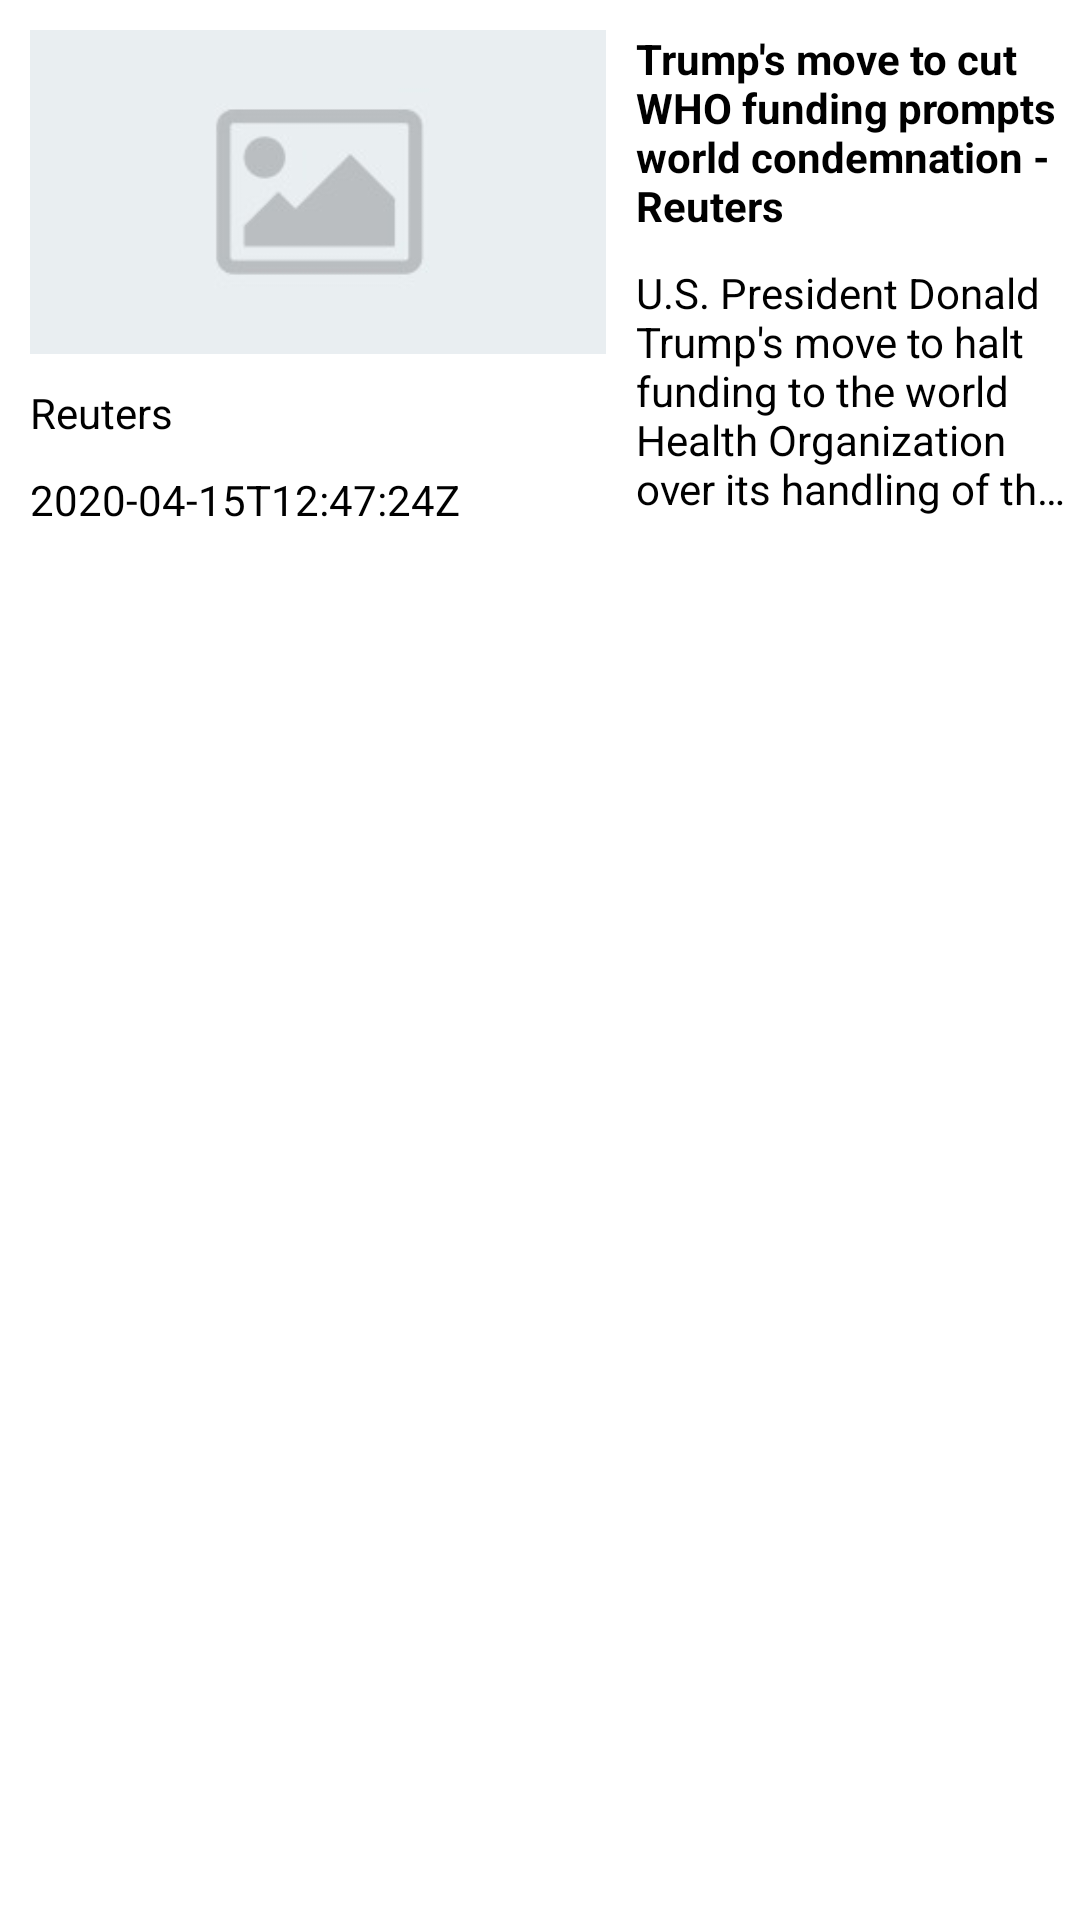

Where icons sit on this 1080x1920 app screen, as [left=x1, top=y1, right=x2, bottom=y2]:
defaultpic: [left=215, top=104, right=429, bottom=282]
